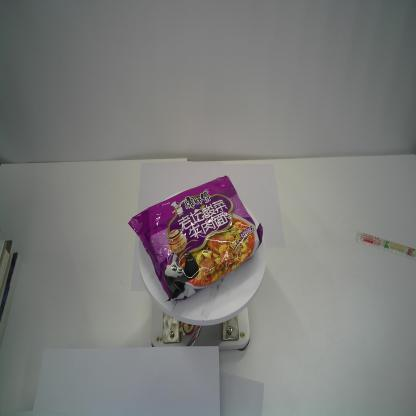Instant Noodles: (127, 174, 264, 303)
